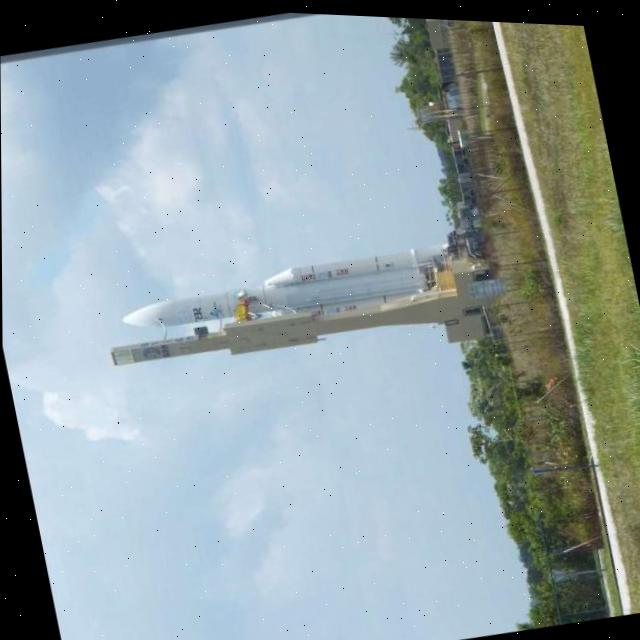missile: (116, 234, 488, 347)
